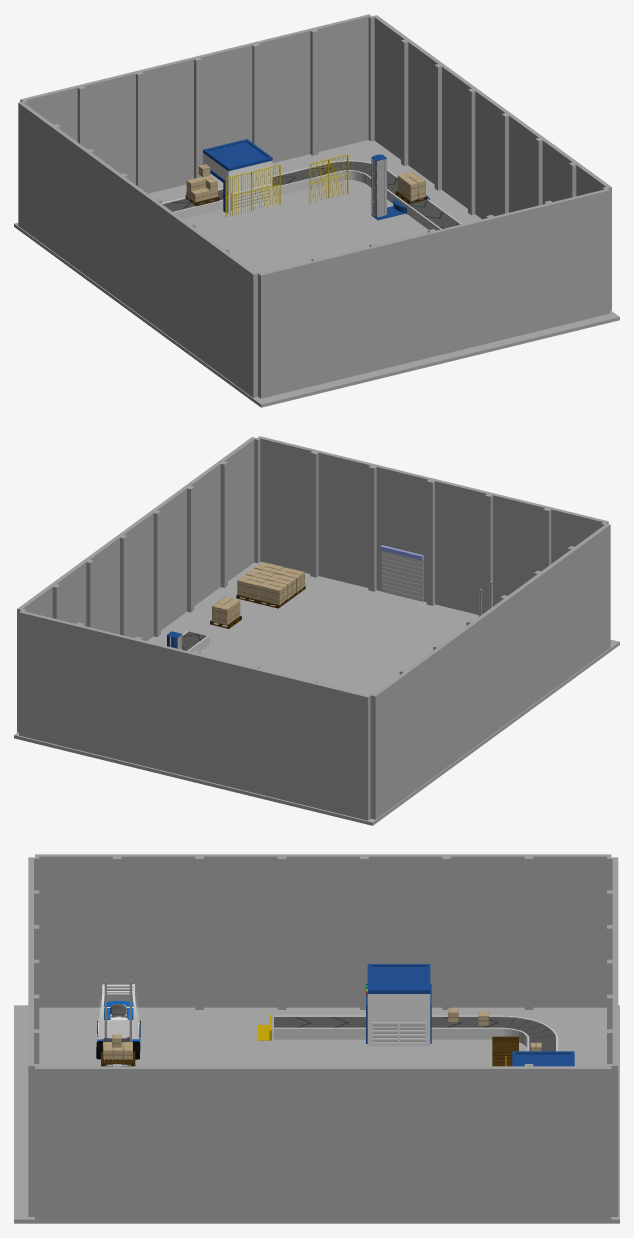
Rendered from fabrika v2.fbx.
3 renders of one model, top to bottom at view 1: azimuth 30°, elevation 25°; view 2: azimuth 150°, elevation 25°; view 3: azimuth 270°, elevation 25°, orthographic. The views are drawn at different scales.
Parts seen in each view (by area): view 1: Cube.011, Cube.009, Cube.010, Cube.012, Cube.013, Cube.002, Cube.017, Cube.018, m59, m3.150; view 2: Cube.009, Cube.011, Cube.010, Cube.013, Cube.012, Cube.014; view 3: Cube.012, Cube.010, Cube.013, Cube, Cube.016, Cube.009, Cube.011, m21, Cube.002, m29.025.
Part boxes in pixels (x1,y1,x2,y2): Cube.011: (257, 187, 609, 398); Cube.009: (20, 14, 373, 193); Cube.010: (18, 101, 260, 397); Cube.012: (369, 15, 611, 310); Cube.013: (14, 140, 619, 407); Cube.002: (203, 139, 272, 213); Cube.017: (162, 163, 338, 219); Cube.018: (326, 160, 461, 230); m59: (372, 158, 386, 217); m3.150: (309, 155, 347, 202); Cube.009: (19, 609, 371, 820); Cube.011: (255, 436, 608, 614); Cube.010: (370, 523, 610, 819); Cube.013: (14, 562, 619, 825); Cube.012: (17, 437, 258, 732); Cube.014: (380, 545, 423, 601); Cube.012: (35, 1064, 611, 1219); Cube.010: (35, 854, 611, 1009); Cube.013: (14, 1005, 619, 1223); Cube: (366, 964, 431, 1046); Cube.016: (273, 1015, 557, 1047); Cube.009: (607, 857, 618, 1216); Cube.011: (28, 857, 39, 1216); m21: (97, 984, 139, 1039); Cube.002: (512, 1051, 574, 1066); m29.025: (492, 1042, 518, 1066).
Bounding box in the file's own units: 15572 × 5243 × 18553.
Materials: 29 (3 with a texture image).
